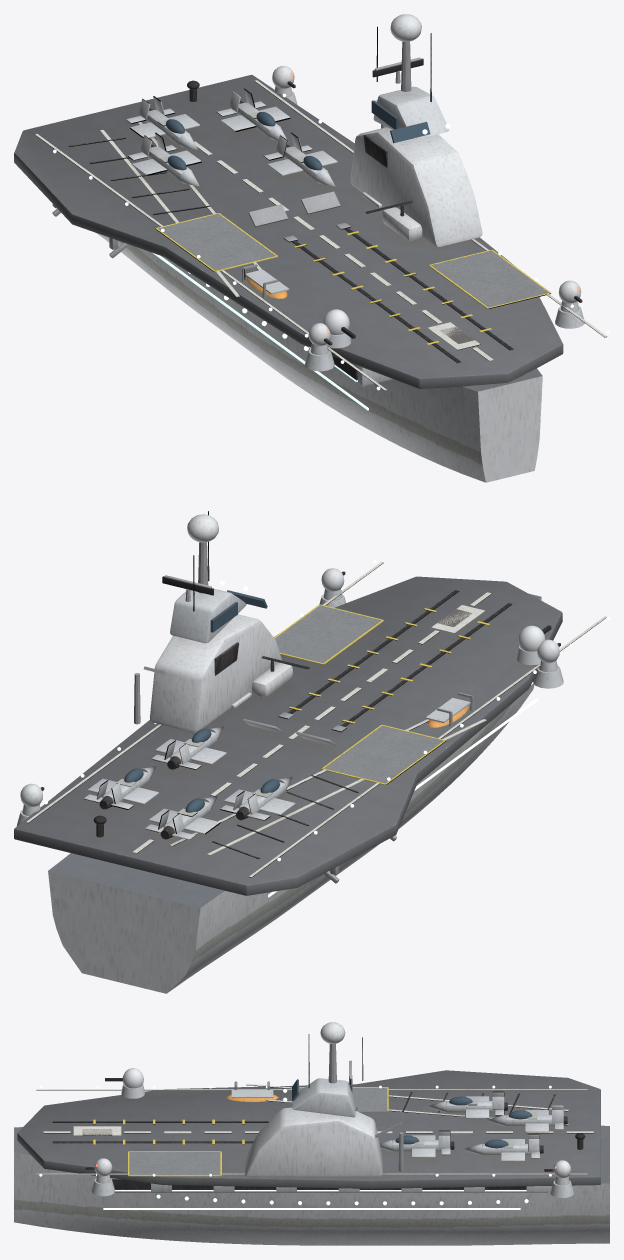
Rendered from carrier.glb.
3 renders of one model, top to bottom at view 1: azimuth 30°, elevation 25°; view 2: azimuth 150°, elevation 25°; view 3: azimuth 270°, elevation 25°, orthographic. The views are drawn at different scales.
Visible parts, largest first — view 1: Hull, Turret; view 2: Hull, Turret; view 3: Hull, Turret.
Boxes of the visible parts, x1=… form: Hull: x1=14, y1=14, x2=609, y2=482; Turret: x1=323, y1=309, x2=351, y2=348; Hull: x1=14, y1=511, x2=609, y2=993; Turret: x1=516, y1=625, x2=545, y2=665; Hull: x1=14, y1=1022, x2=609, y2=1245; Turret: x1=121, y1=1068, x2=144, y2=1098.
Bounding box in the file's own units: 9.09 × 8.96 × 20.
19 materials, 14 textured.
